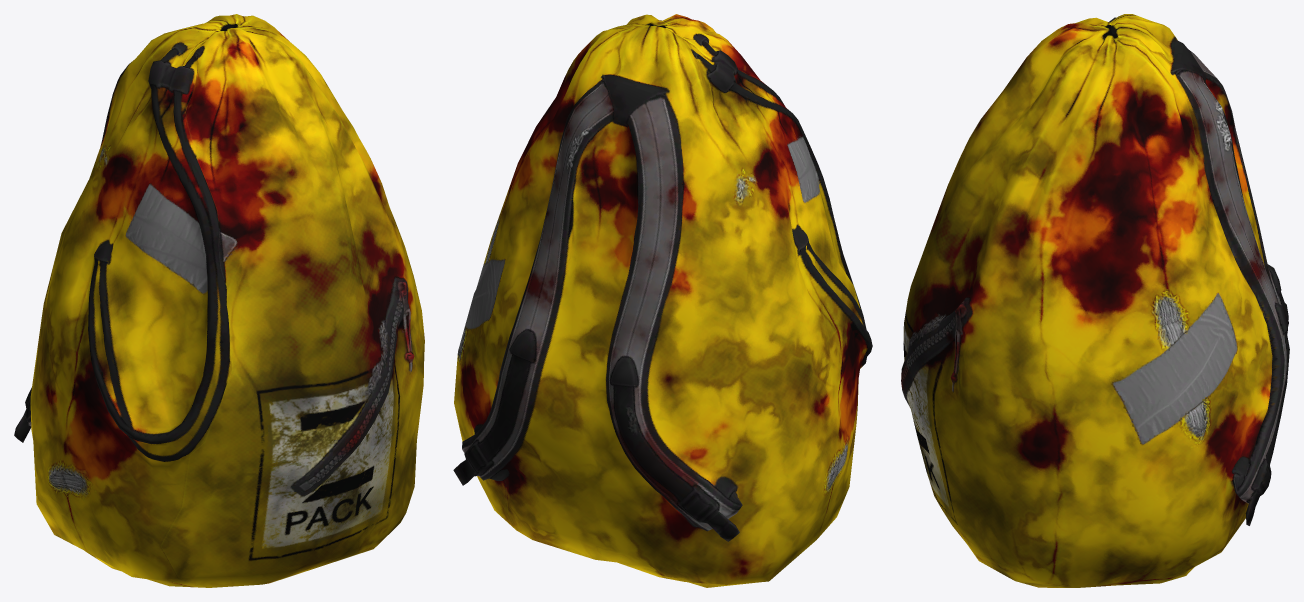
The model's file is zpackPrefab.glb.
The picture shows the model from 3 angles, left to right: view 1: azimuth 30°, elevation 25°; view 2: azimuth 150°, elevation 25°; view 3: azimuth 270°, elevation 25°; orthographic projection.
Parts seen in each view (by area): view 1: z_pack; view 2: z_pack; view 3: z_pack.
Part boxes in pixels (box(x1,y1,x2,y2)): z_pack: box(14, 14, 424, 587); z_pack: box(453, 14, 872, 587); z_pack: box(901, 14, 1289, 587).
Bounding box in the file's own units: 0.00432 × 0.00614 × 0.00422.
Materials: 1 (1 with a texture image).
